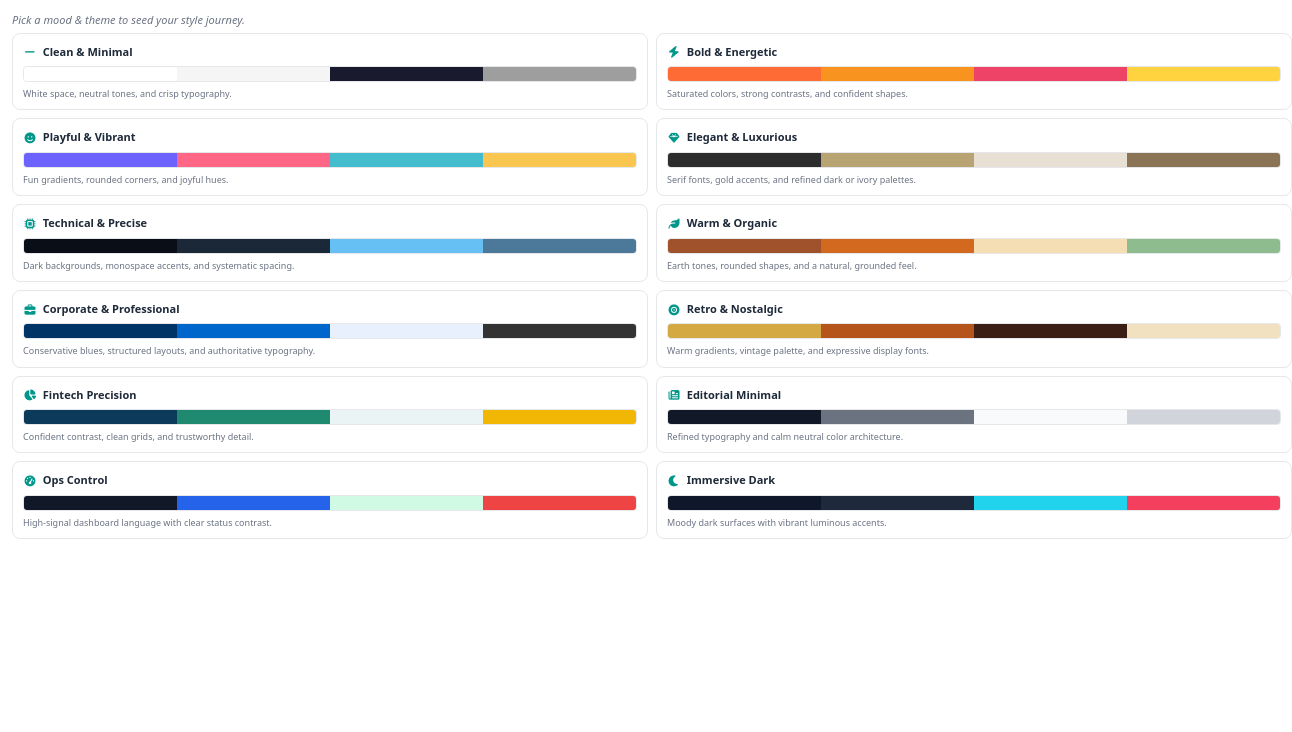
it: ThemeFirstFlow › shows an Apply button when a card is selected
expect the text "Apply theme" is not shown: met
Click the button "Clean & Minimal": [330, 71] box top-left (12, 32), bottom-right (648, 110)
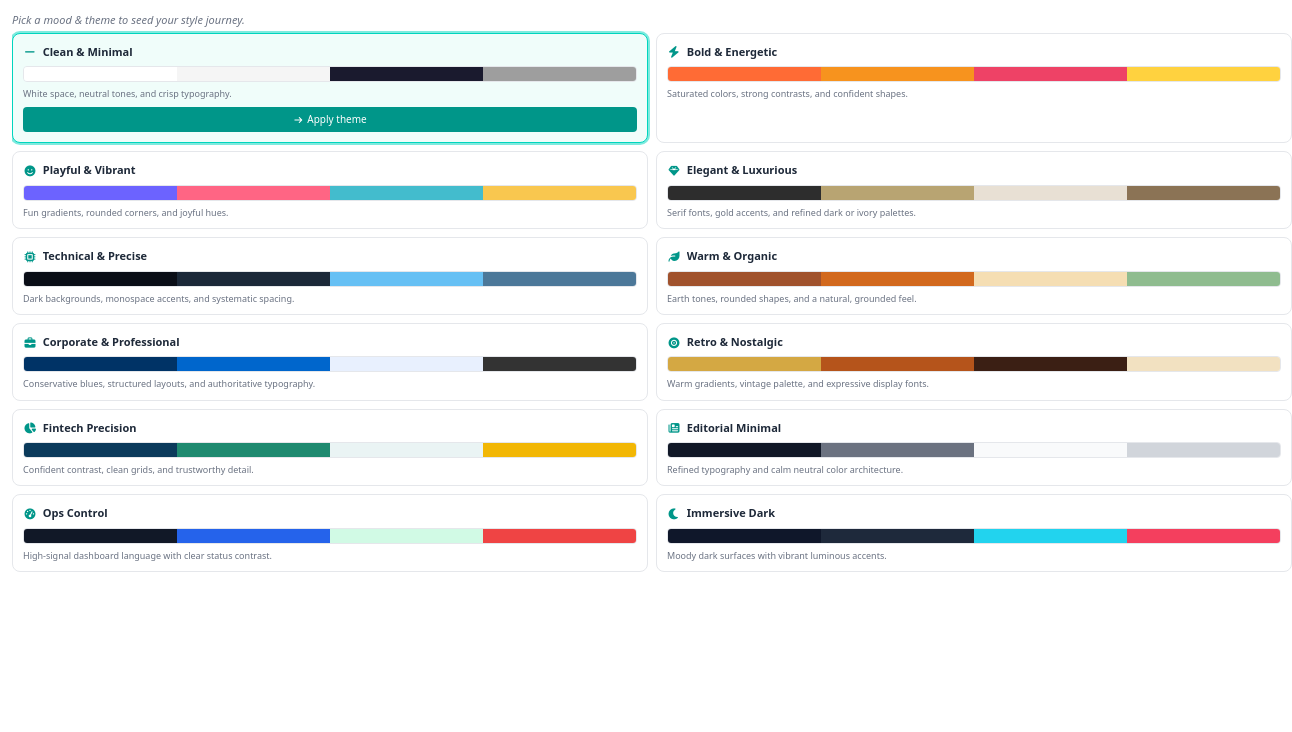
expect the button "Apply theme" is shown: met, box top-left (23, 107), bottom-right (637, 132)
